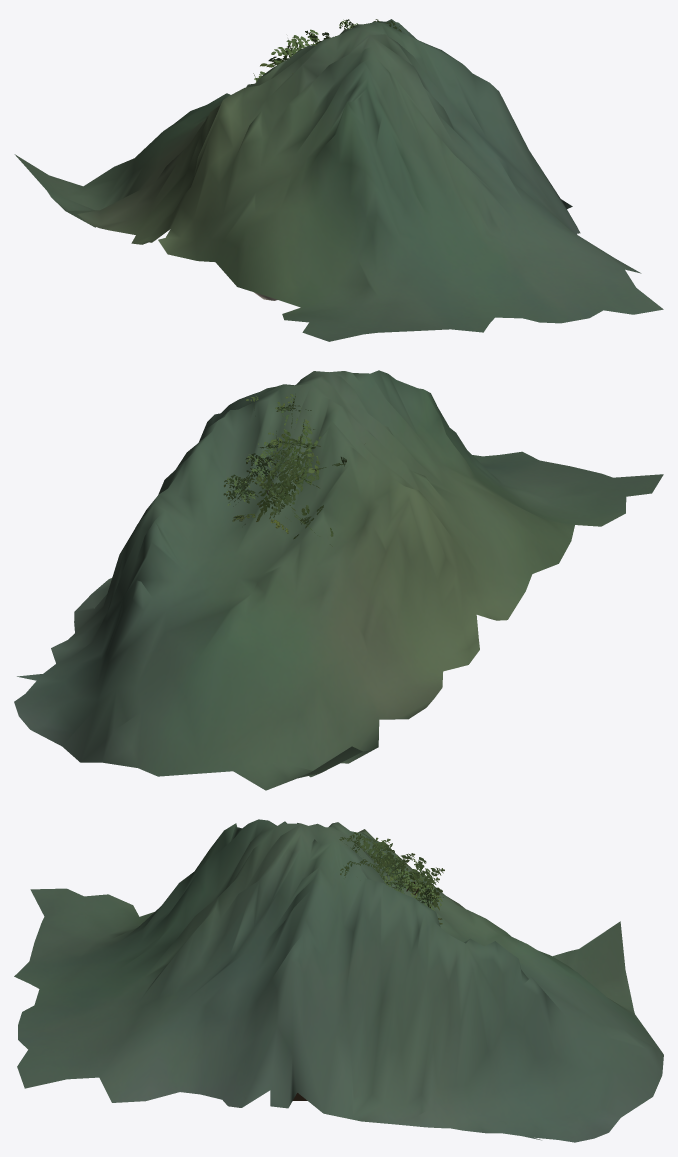
The model's file is world-scenery.glb.
3 views of the same model, one above another, from view 1: azimuth 30°, elevation 25°; view 2: azimuth 150°, elevation 25°; view 3: azimuth 270°, elevation 25° (orthographic). The views are drawn at different scales.
Visible parts, largest first — view 1: mountain, tree-tall; view 2: mountain, tree-tall; view 3: mountain, tree-tall.
Boxes of the visible parts, box(x1,y1,x2,y2) form: mountain: box(14, 19, 663, 341); tree-tall: box(253, 19, 401, 81); mountain: box(14, 370, 663, 790); tree-tall: box(223, 394, 346, 546); mountain: box(14, 819, 663, 1142); tree-tall: box(339, 832, 444, 910).
Size of the model in its own units: 4.12 by 2.75 by 6.44.
18 materials, 14 textured.
